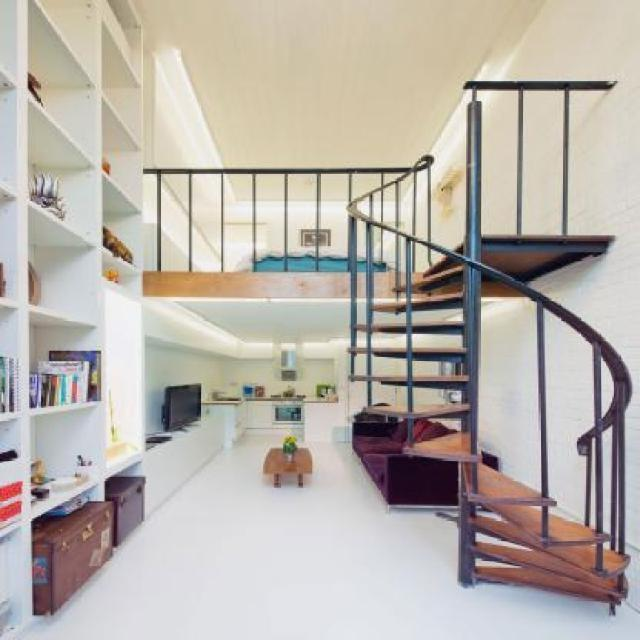stair: (359, 173, 638, 613)
